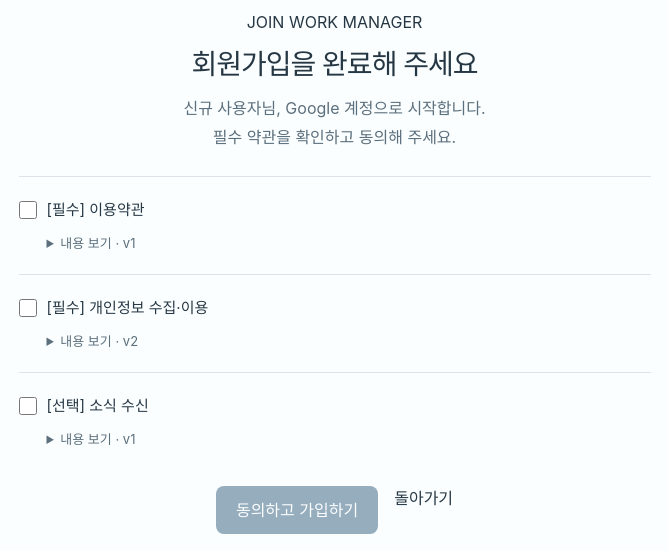
authentication_error_and_retry › pending_registration_submission_disables_controls_ok
Step 1. Click the checkbox labelled "[필수] 이용약관" → click(28, 210), box left=18, top=201, right=36, bottom=219
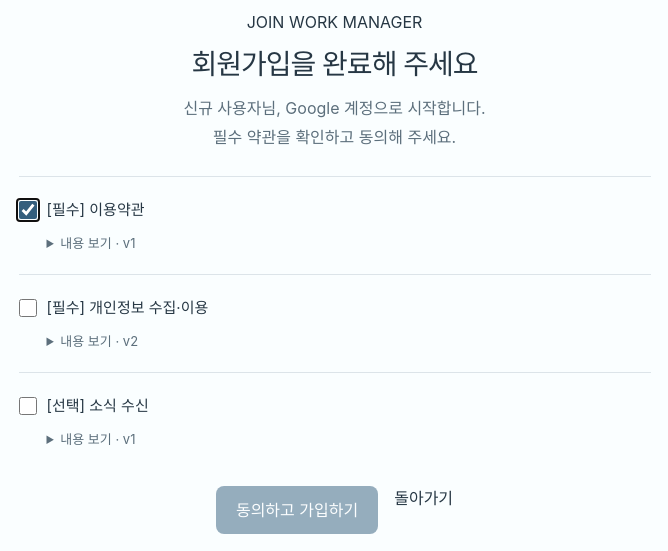
Step 2. Click the checkbox labelled "[필수] 개인정보 수집·이용" → click(28, 308), box left=18, top=299, right=36, bottom=317
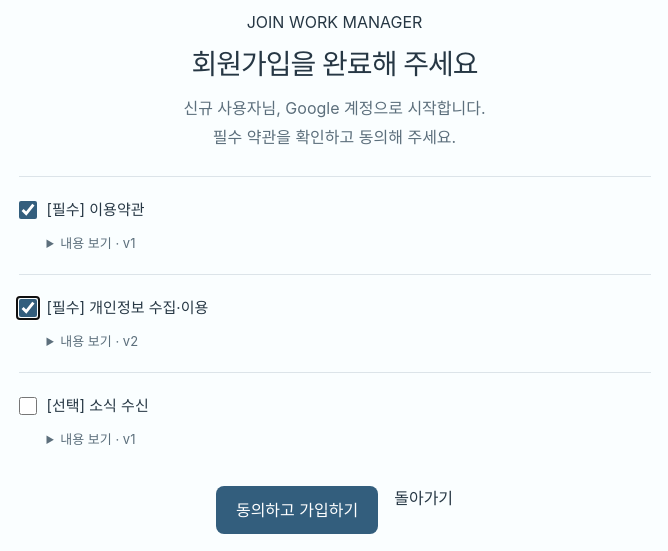
Step 3. Click the button "동의하고 가입하기" → click(297, 510), box left=216, top=486, right=378, bottom=534
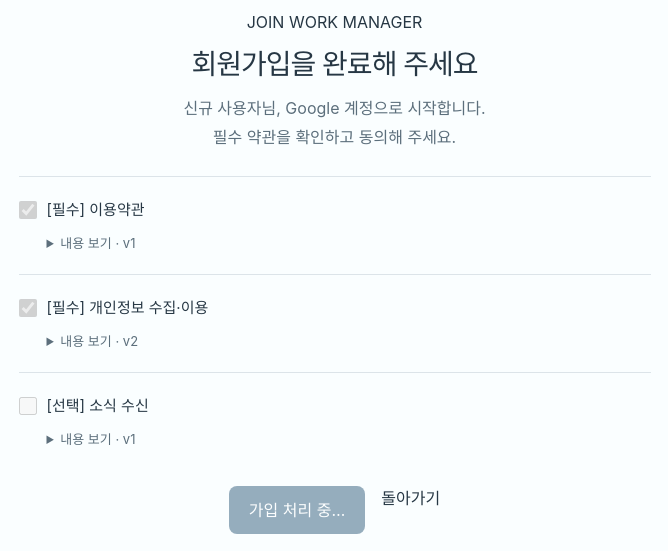
Expected: the checkbox labelled "[선택] 소식 수신" is disabled, left=18, top=397, right=36, bottom=415
Expected: the button "가입 처리 중…" is disabled, left=229, top=486, right=365, bottom=534
